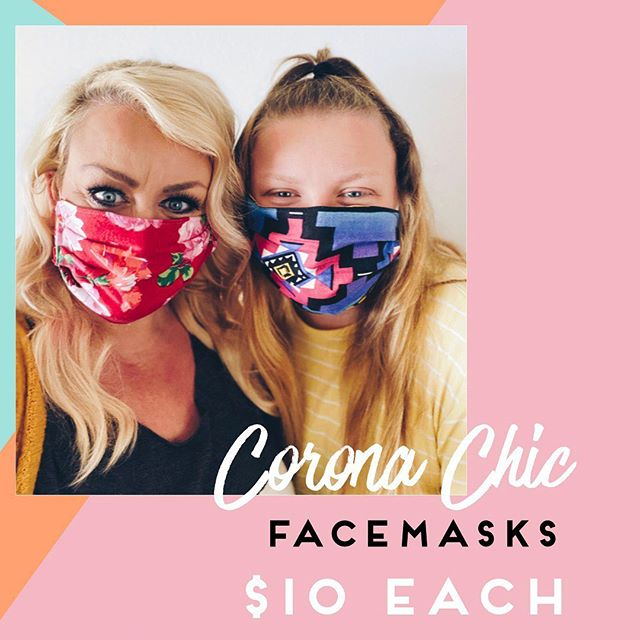homemade: (244, 198, 399, 317), (53, 213, 215, 319)
